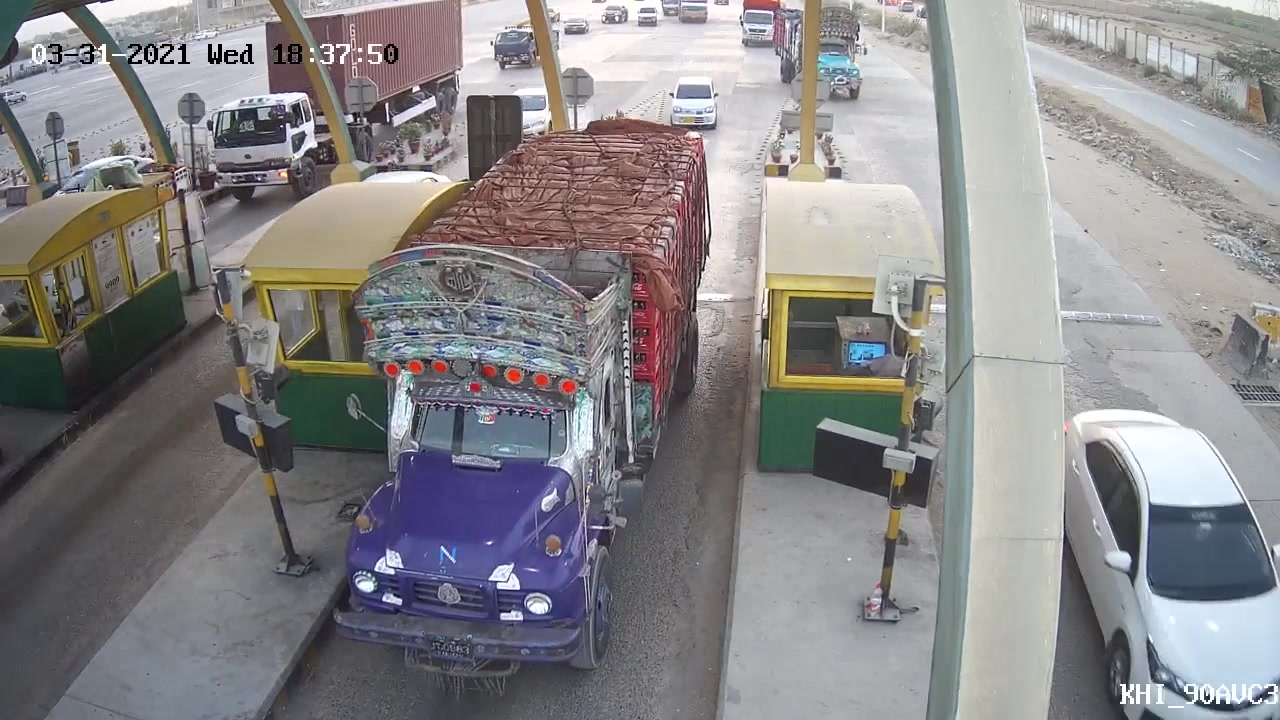F5: (330, 122, 718, 679)
